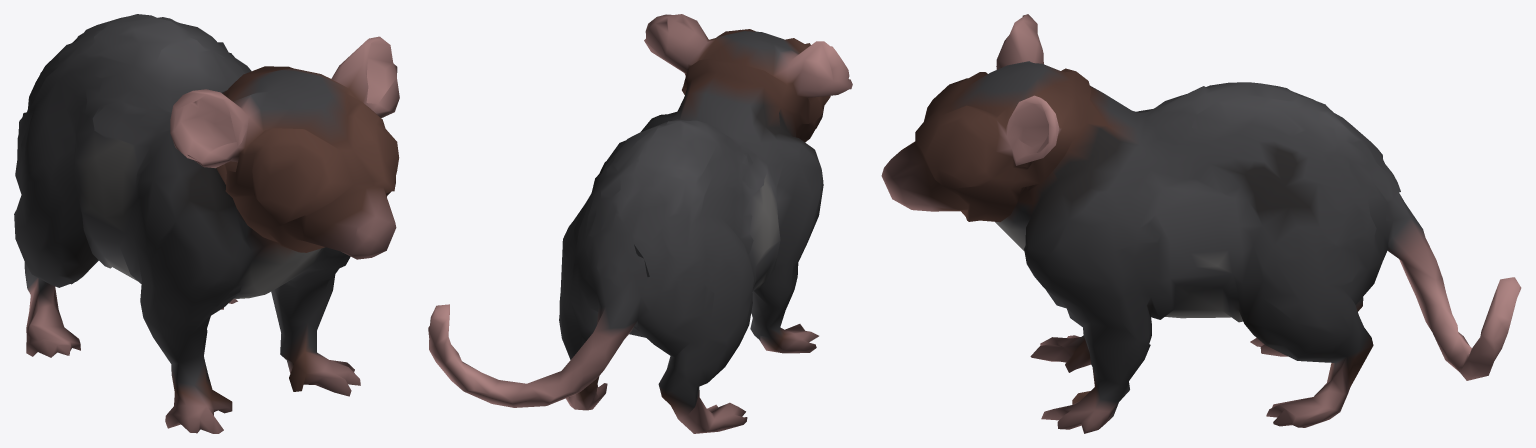
The model's file is smog-rat.glb.
3 views of the same model, side by side, from view 1: azimuth 30°, elevation 25°; view 2: azimuth 150°, elevation 25°; view 3: azimuth 270°, elevation 25° (orthographic). The views are drawn at different scales.
Visible parts, largest first — view 1: torso, head, foreL, foreR, shinL, armR, armL, thighL; view 2: torso, tail0, tail1, tail2, thighL, shinL, foreL, armL, shinR; view 3: torso, head, tail0, tail1, shinR, tail2, foreR, thighR, armR, foreL.
Boxes of the visible parts, bbox=[...] form: torso: bbox=[14, 14, 399, 341]; head: bbox=[250, 103, 399, 259]; foreL: bbox=[165, 361, 232, 433]; foreR: bbox=[280, 322, 360, 396]; shinL: bbox=[26, 286, 80, 357]; armR: bbox=[271, 284, 332, 353]; armL: bbox=[143, 318, 207, 384]; thighL: bbox=[17, 238, 97, 303]; torso: bbox=[559, 14, 852, 371]; tail0: bbox=[569, 232, 668, 368]; tail1: bbox=[462, 328, 611, 407]; tail2: bbox=[428, 304, 513, 407]; thighL: bbox=[658, 348, 727, 406]; shinL: bbox=[671, 396, 747, 433]; foreL: bbox=[750, 318, 818, 353]; armL: bbox=[751, 289, 794, 331]; shinR: bbox=[566, 383, 607, 410]; torso: bbox=[969, 14, 1387, 353]; head: bbox=[881, 72, 989, 221]; tail0: bbox=[1368, 143, 1440, 320]; tail1: bbox=[1403, 231, 1472, 380]; shinR: bbox=[1266, 359, 1361, 427]; tail2: bbox=[1467, 277, 1521, 380]; foreR: bbox=[1041, 368, 1129, 433]; thighR: bbox=[1266, 328, 1373, 385]; armR: bbox=[1083, 334, 1150, 386]; foreL: bbox=[1030, 335, 1091, 372].
Size of the model in its own units: 0.6491 by 0.8246 by 1.43.
